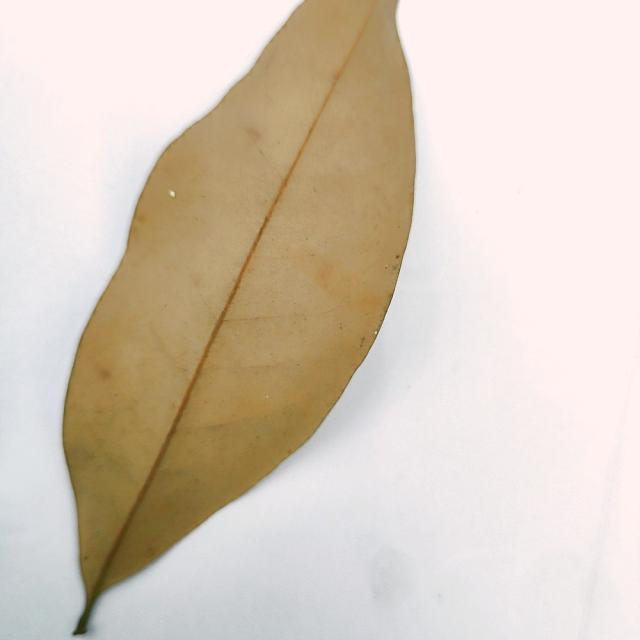Dry_Leaf-Lychee: (58, 0, 418, 632)
